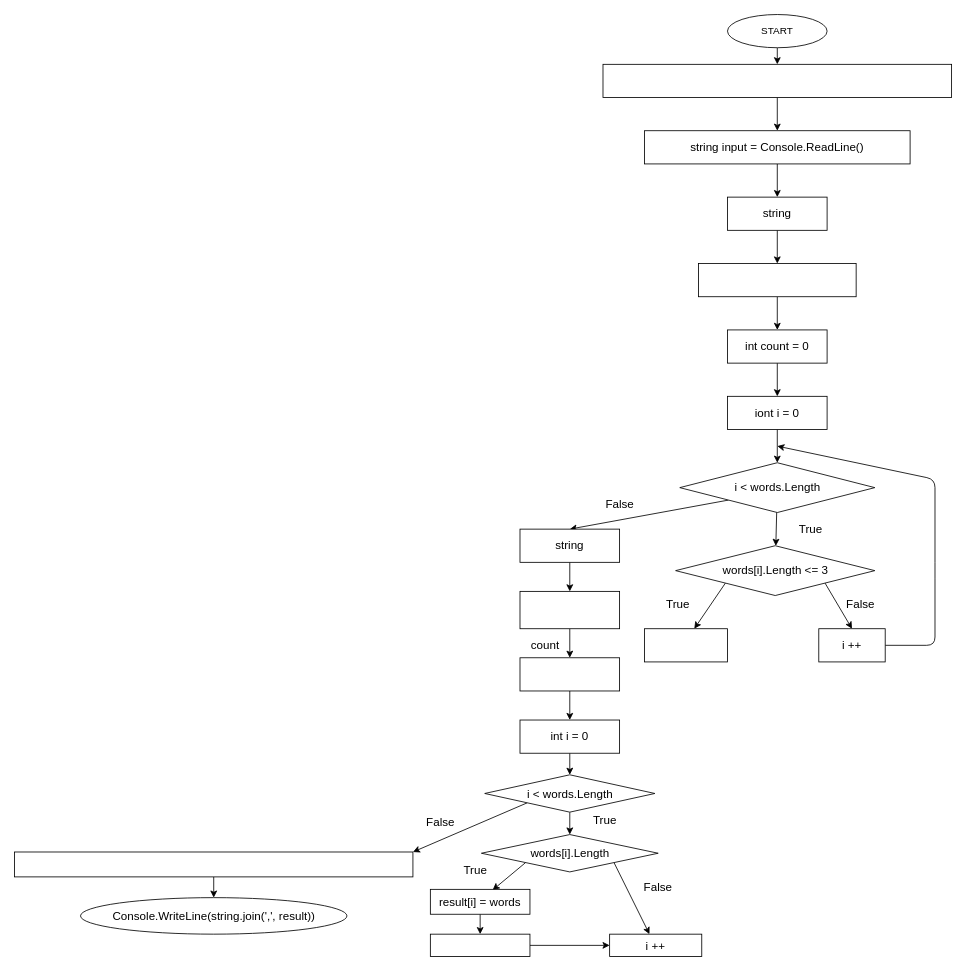
This 966x971 diagram has some shape labels left out. The shapes that lost their labels are listed below. From the top down, each one's centre as x and y in pixels, then its label:
(x=777, y=80): CovsoleWriteLine("Введите элементы массива через запятую")
(x=777, y=280): words = input.Split(',')
(x=569, y=610): result = new string
(x=685, y=645): count ++
(x=569, y=674): int index = 0
(x=213, y=864): Console.WriteLine("Новыый массив строк длиной не более 3 символов")
(x=480, y=945): index ++
